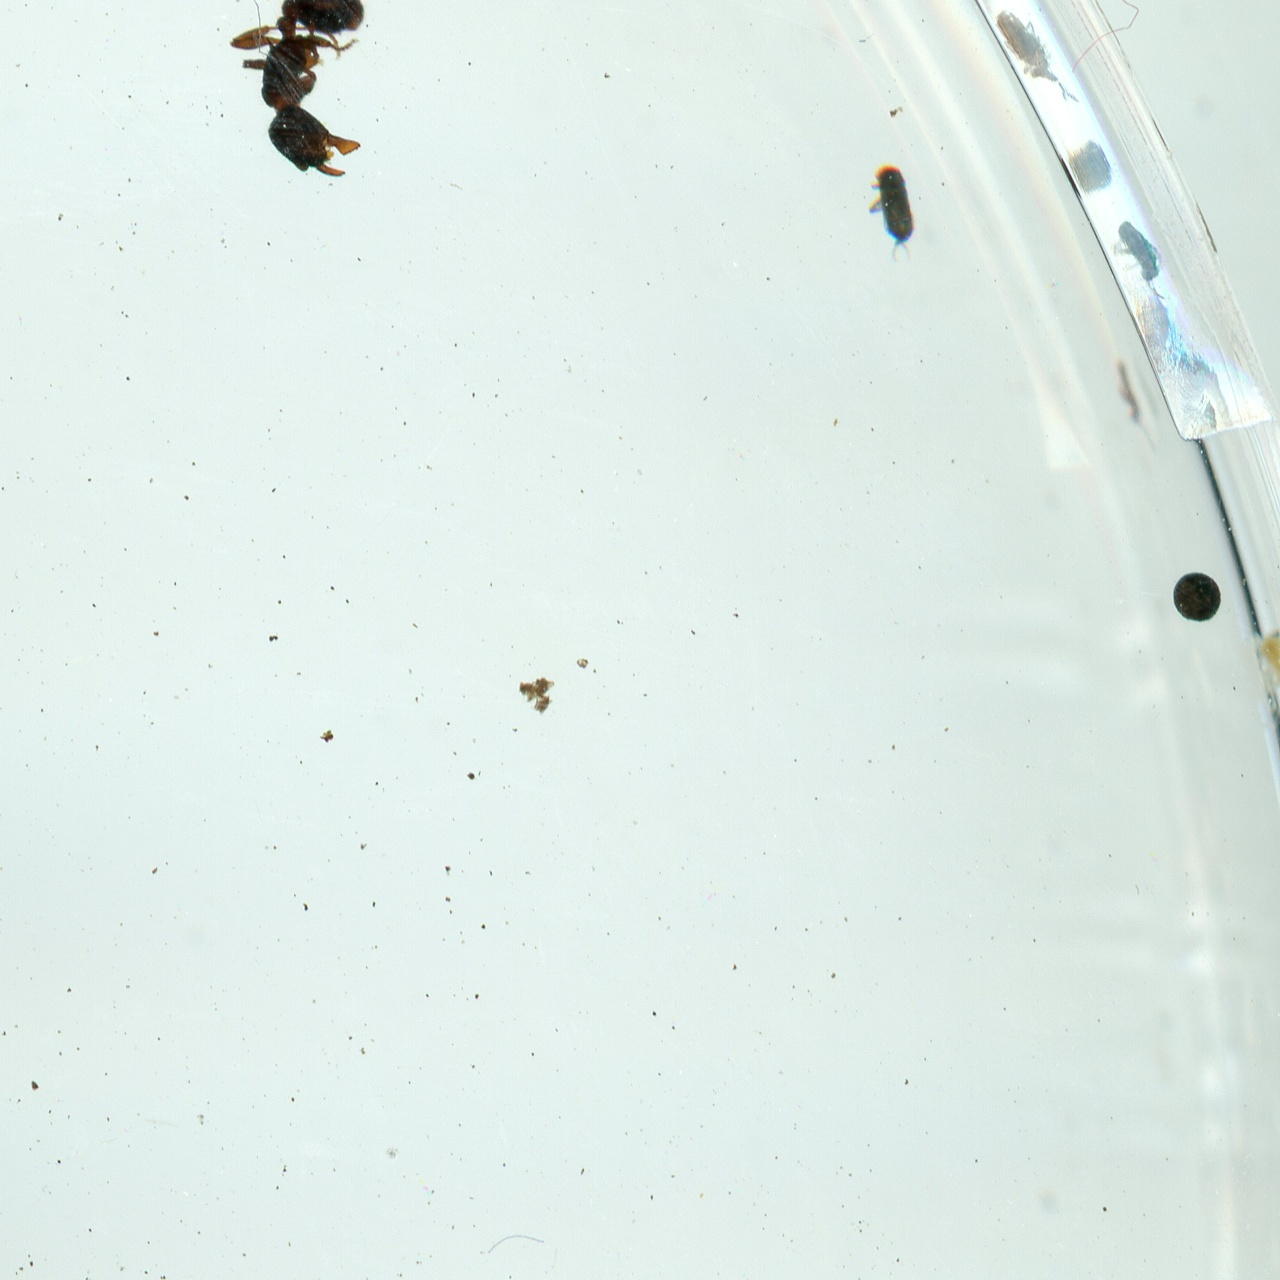arthropod: (227, 0, 377, 184), (980, 0, 1090, 129), (1098, 205, 1182, 316), (856, 158, 928, 273)
